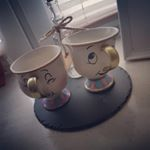cups: (8, 43, 75, 112), (61, 25, 121, 96)
